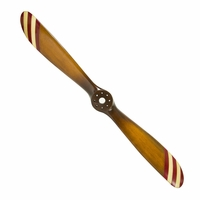Propeller: (15, 8, 186, 189)
